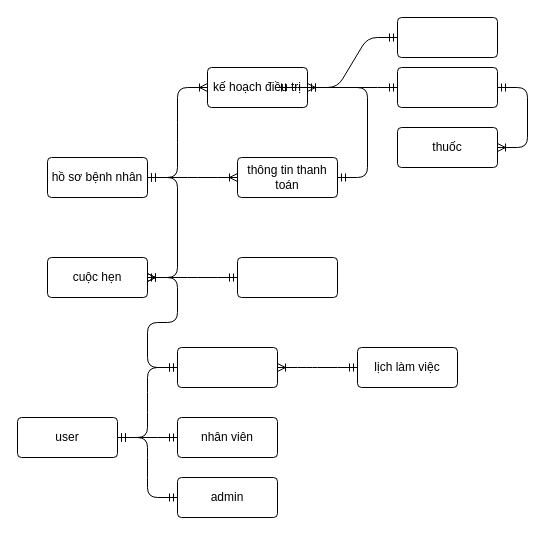
Some shapes in this 554 by 535 pixel diagram are drawn without their labels. The shapes that lost their labels are listed below. From the top down, each one's box as (x1, y1, x2, y2) in pixels, then its label:
(396, 16, 498, 58): mục điều trị
(396, 66, 498, 108): đơn thuốc
(236, 256, 338, 298): phòng
(176, 346, 278, 388): nha sĩ
